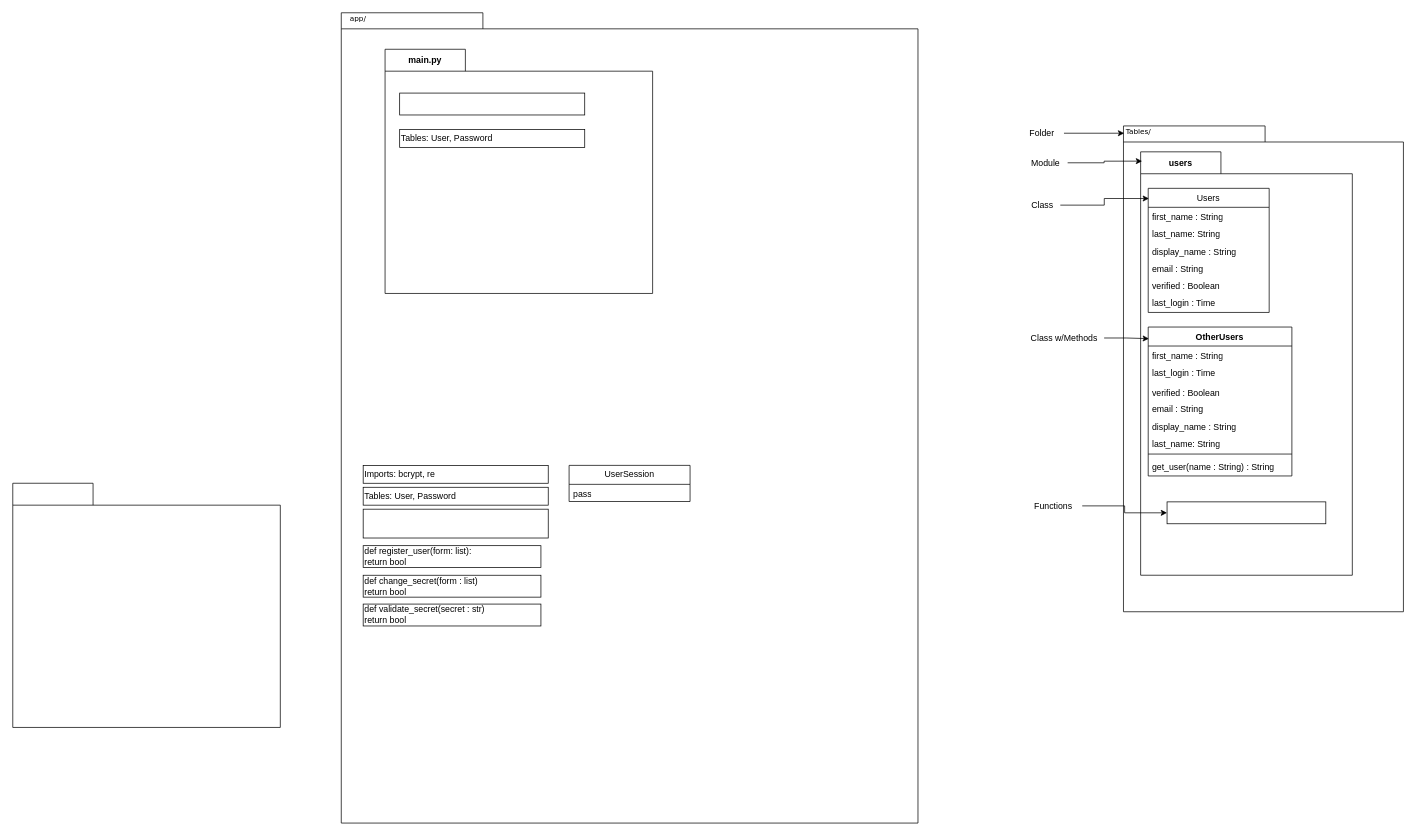
This 1416x836 diagram has some shape labels left out. Each missing label, with the centre of its shape:
"authenticate.py" goes at point 146,605.
"def login_user(username: str, password: str): return bool" goes at point 455,523.
"Imports: flask, flask_sqlalchemy, sqlalchemy" goes at point 492,103.
"login_user(username : String) : bool" goes at point 1246,512.
